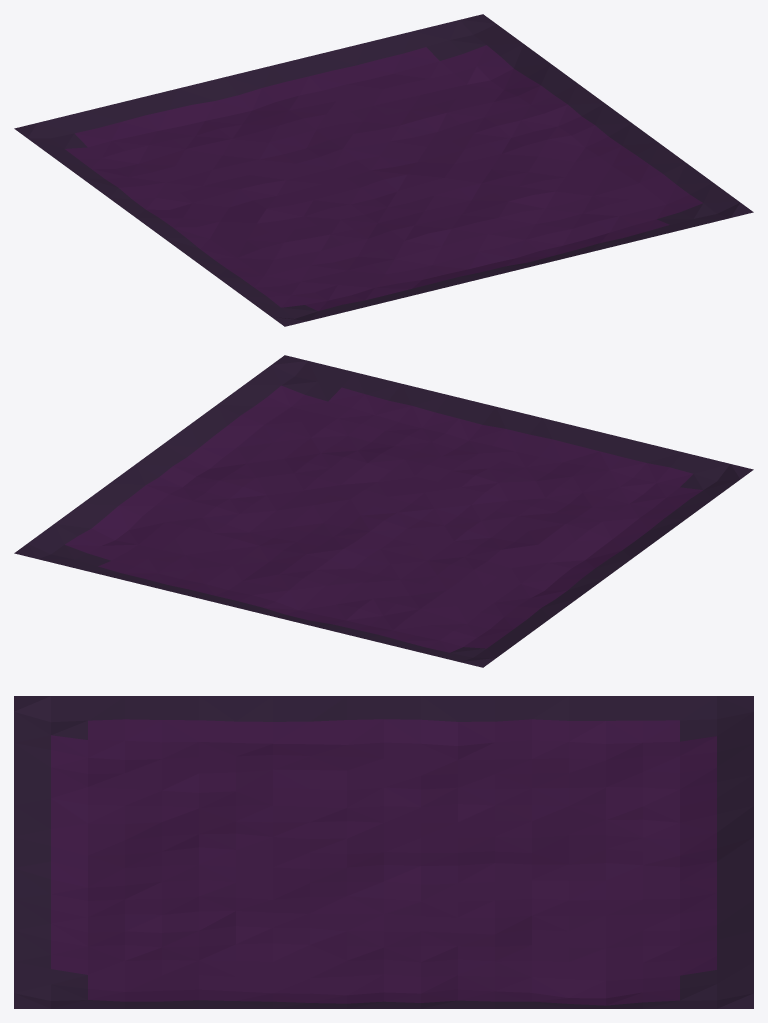
Rendered from W4_Ground_CeilingTile.fbx.
3 views of the same model, one above another, from view 1: azimuth 30°, elevation 25°; view 2: azimuth 150°, elevation 25°; view 3: azimuth 270°, elevation 25° (orthographic). The views are drawn at different scales.
Visible parts, largest first — view 1: W4_Ground_CeilingTile; view 2: W4_Ground_CeilingTile; view 3: W4_Ground_CeilingTile.
Part boxes in pixels (box(x1,y1,x2,y2)): W4_Ground_CeilingTile: box(14, 14, 753, 326); W4_Ground_CeilingTile: box(14, 355, 753, 667); W4_Ground_CeilingTile: box(14, 696, 753, 1008).
Bounding box in the file's own units: 200 × 6.22 × 200.
